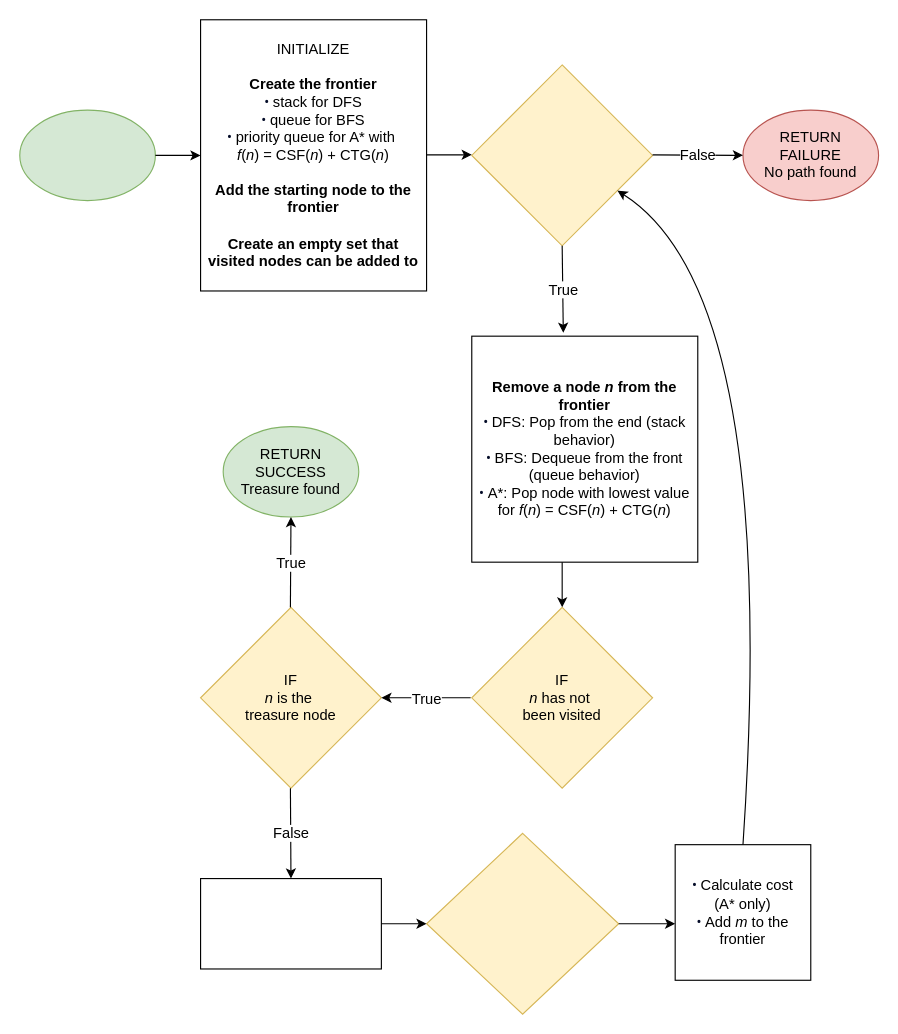
Image size: 898x1034. Some labels were removed from this diagram. The shapes that lost their labels are listed below. From the top down, each one's centre as x and y in pixels, then its label:
At [87,155]: "START".
At [562,155]: "WHILE Frontier is not empty".
At [290,923]: "Add n to the visited set".
At [522,923]: "FOR EACH valid neighbor m of n IF m has not been visited".
